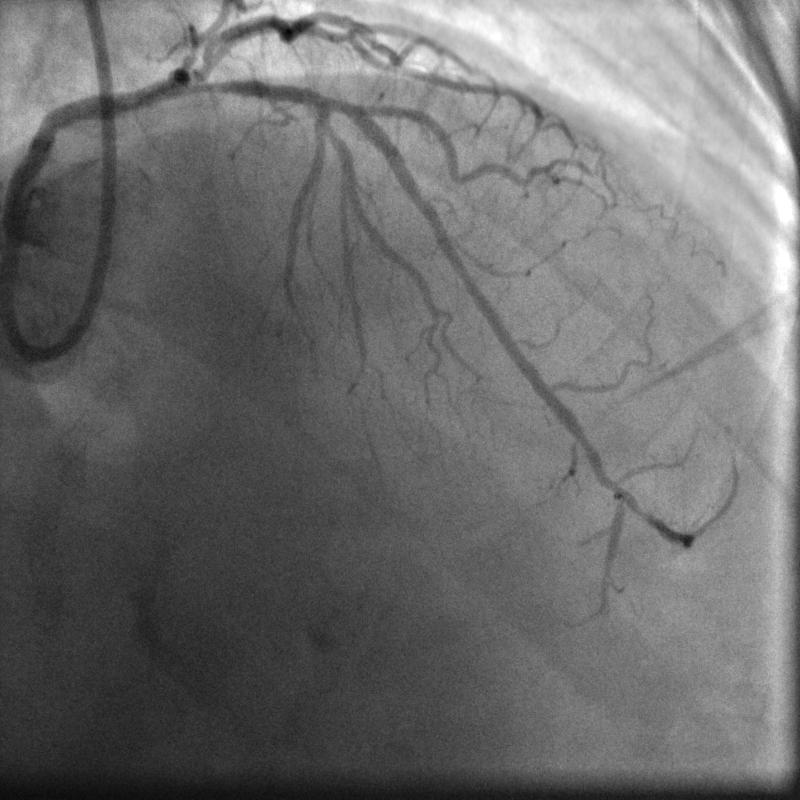Stenosis: (179, 68, 248, 99)
